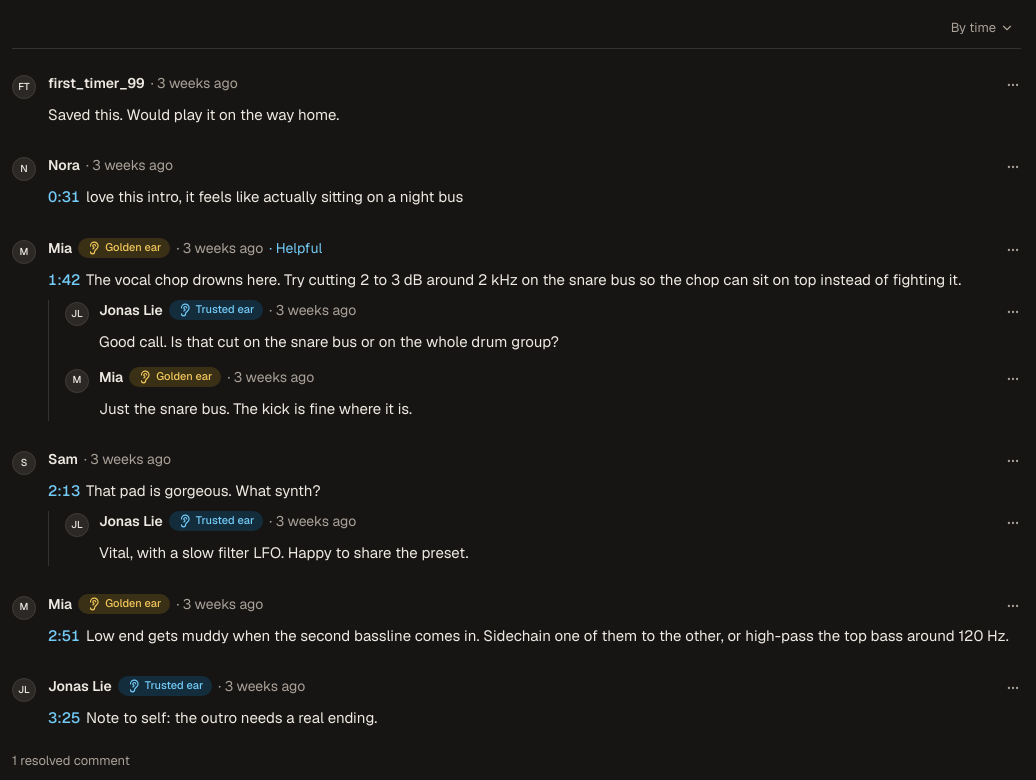
it: CommentList actions on your own comment › offers Edit and Delete on your own, Report on others
Click the button named "More actions for the comment by Mia" in the row of "· Helpful".
click(1013, 250)  # box [999,236,1027,264]
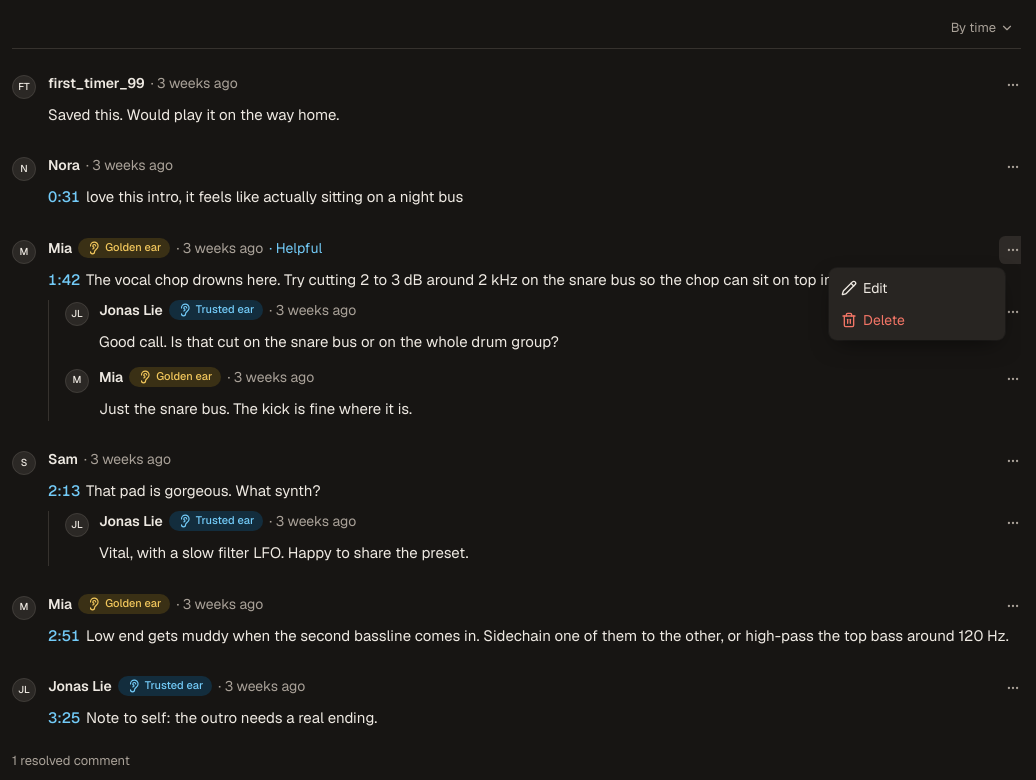
Result: the menu item "Edit" is shown at [841,279,888,297]
Result: the menu item "Delete" is shown at [841,311,905,329]
